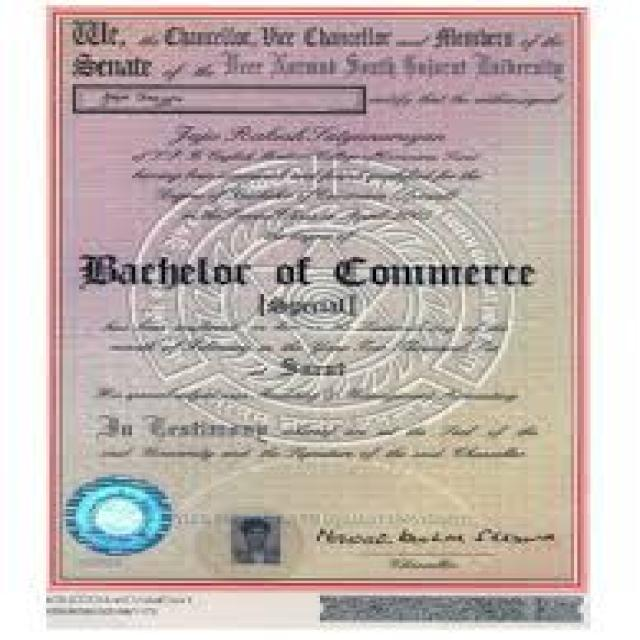signature: (71, 248, 545, 296), (309, 524, 566, 571)
stamp: (61, 466, 179, 560)
